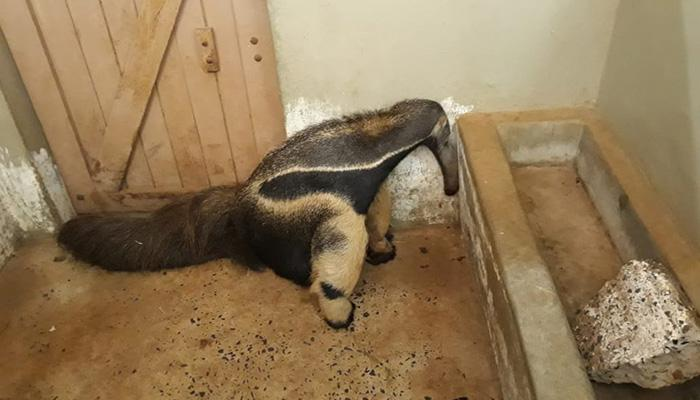TamanduaBandeira: (53, 96, 464, 333)
